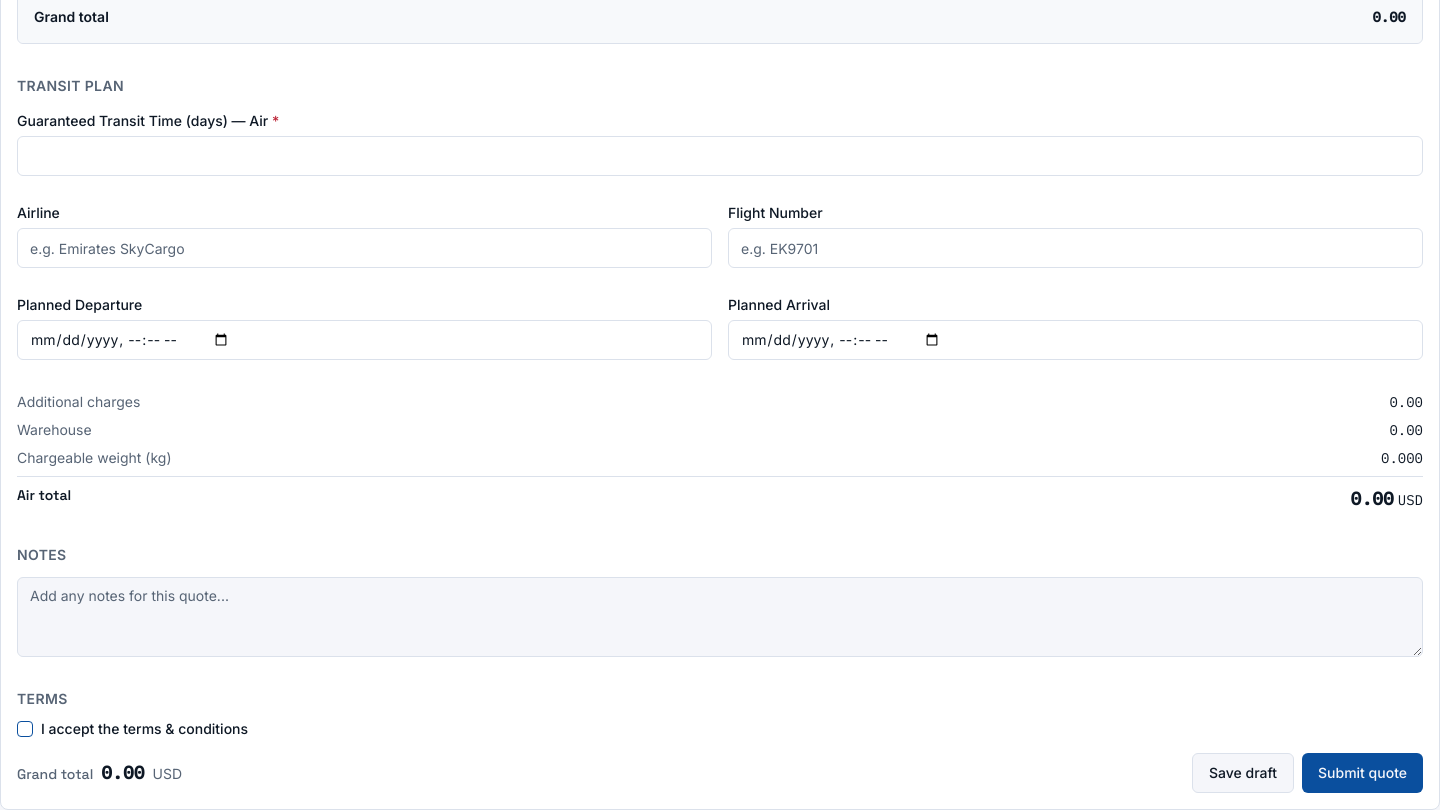
Test: LegSection save-draft failure surfacing (review round 1, MINOR 4) › shows the server's refusal when Save draft fails, instead of failing silently
(page scrolled)
Step 1. Click the button "Save draft" → click(1243, 773), box [1192,753,1294,793]
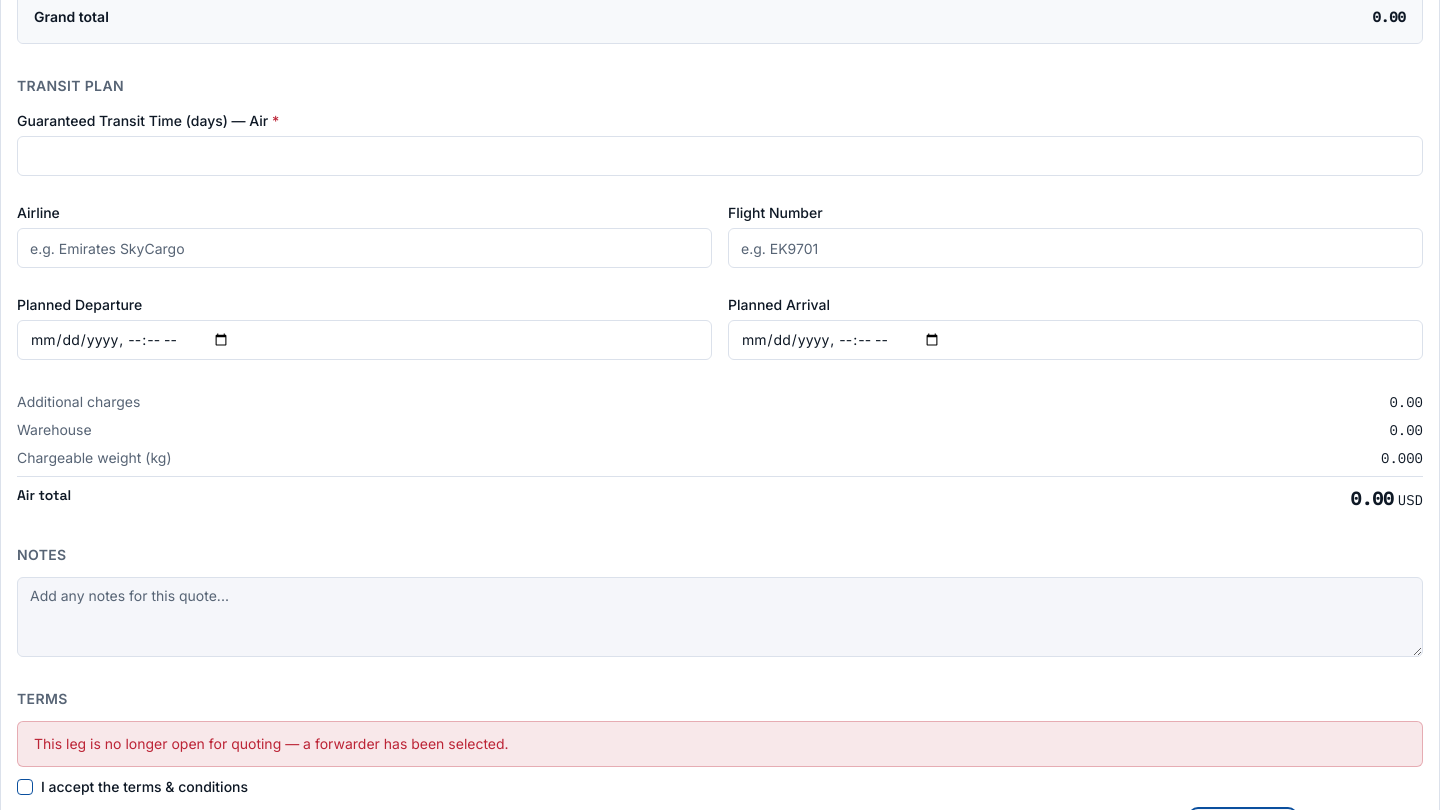
Result: the message reads "This leg is no longer open for quoting — a forwarder has been selected." at [34,735,509,752]
